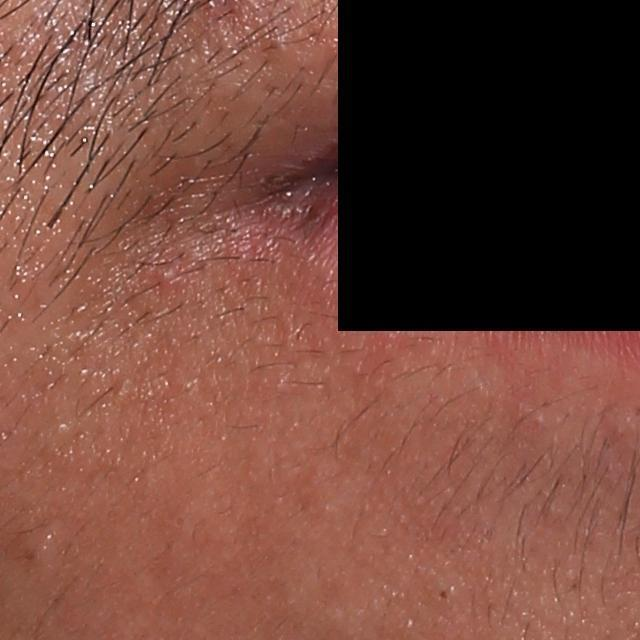comedo: (427, 581, 456, 610)
papule: (154, 259, 184, 291)
